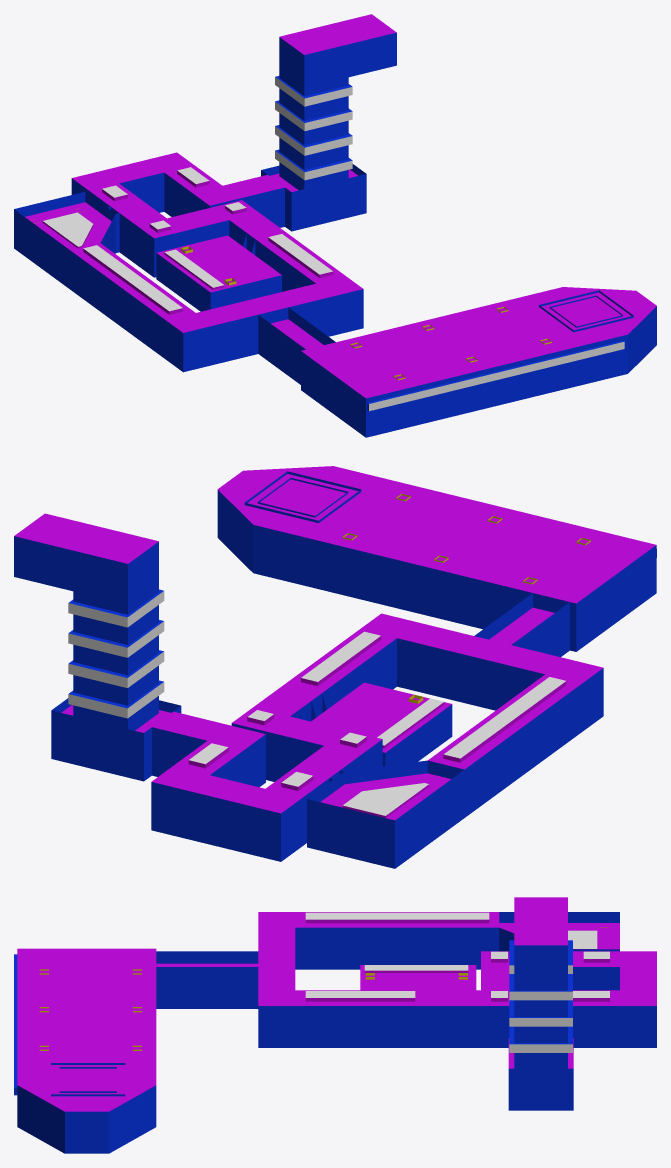
Rendered from TownEInterior1.fbx.
3 renders of one model, top to bottom at view 1: azimuth 30°, elevation 25°; view 2: azimuth 150°, elevation 25°; view 3: azimuth 270°, elevation 25°, orthographic. The views are drawn at different scales.
Parts seen in each view (by area): view 1: TownEInterior1Mesh; view 2: TownEInterior1Mesh; view 3: TownEInterior1Mesh.
Boxes of the visible parts, x1,y1,x2,y2 form: TownEInterior1Mesh: (14, 14, 656, 437); TownEInterior1Mesh: (14, 466, 656, 868); TownEInterior1Mesh: (14, 897, 656, 1153).
Bounding box in the file's own units: 10198 × 4392 × 13873.
